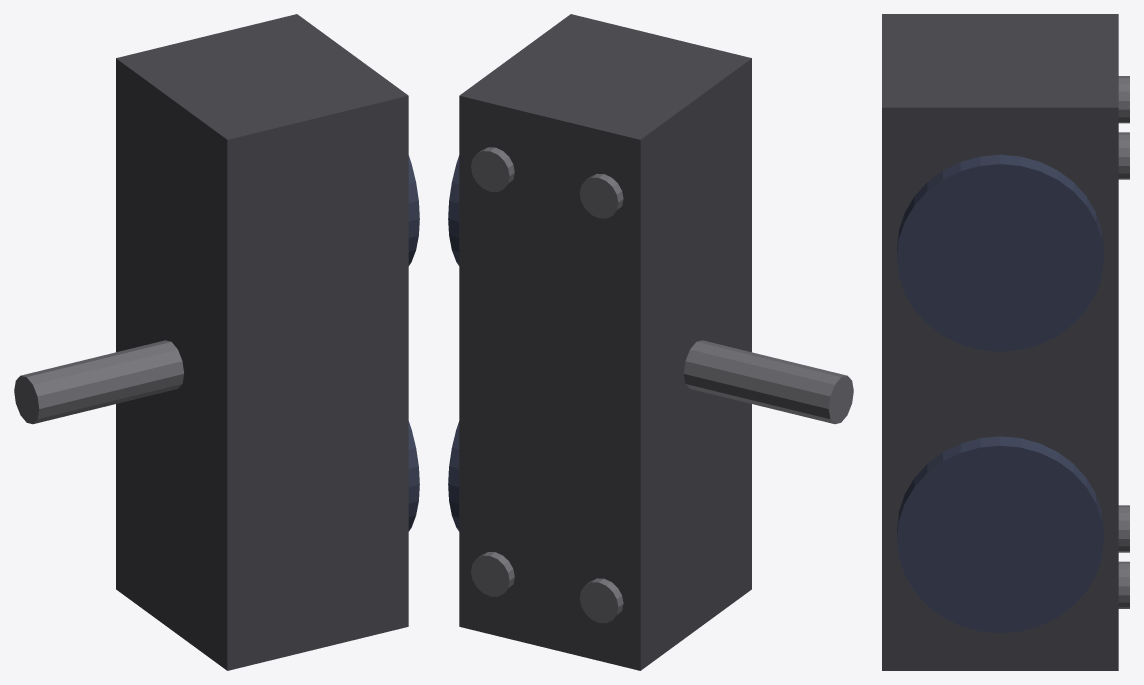
The model's file is tfmini_s.glb.
3 renders of one model, left to right at view 1: azimuth 30°, elevation 25°; view 2: azimuth 150°, elevation 25°; view 3: azimuth 270°, elevation 25°, orthographic. The views are drawn at different scales.
Visible parts, largest first — view 1: part_0, part_7, part_1, part_2; view 2: part_0, part_7, part_3, part_4, part_6, part_5, part_1, part_2; view 3: part_0, part_1, part_2, part_3, part_6, part_4, part_5.
Boxes of the visible parts, box(x1,y1,x2,y2) form: part_0: box(116, 14, 408, 670); part_7: box(14, 340, 184, 424); part_1: box(408, 155, 419, 265); part_2: box(408, 421, 419, 531); part_0: box(459, 14, 751, 670); part_7: box(683, 340, 853, 424); part_3: box(579, 578, 623, 623); part_4: box(579, 173, 623, 218); part_6: box(471, 147, 514, 191); part_5: box(471, 552, 514, 596); part_1: box(448, 155, 459, 265); part_2: box(448, 421, 459, 531); part_0: box(882, 14, 1118, 670); part_1: box(897, 154, 1103, 351); part_2: box(897, 436, 1103, 633); part_3: box(1118, 505, 1129, 552); part_6: box(1118, 132, 1129, 179); part_4: box(1118, 76, 1129, 123); part_5: box(1118, 561, 1129, 608).
Bounding box in the file's own units: 0.0285 × 0.042 × 0.0168.
